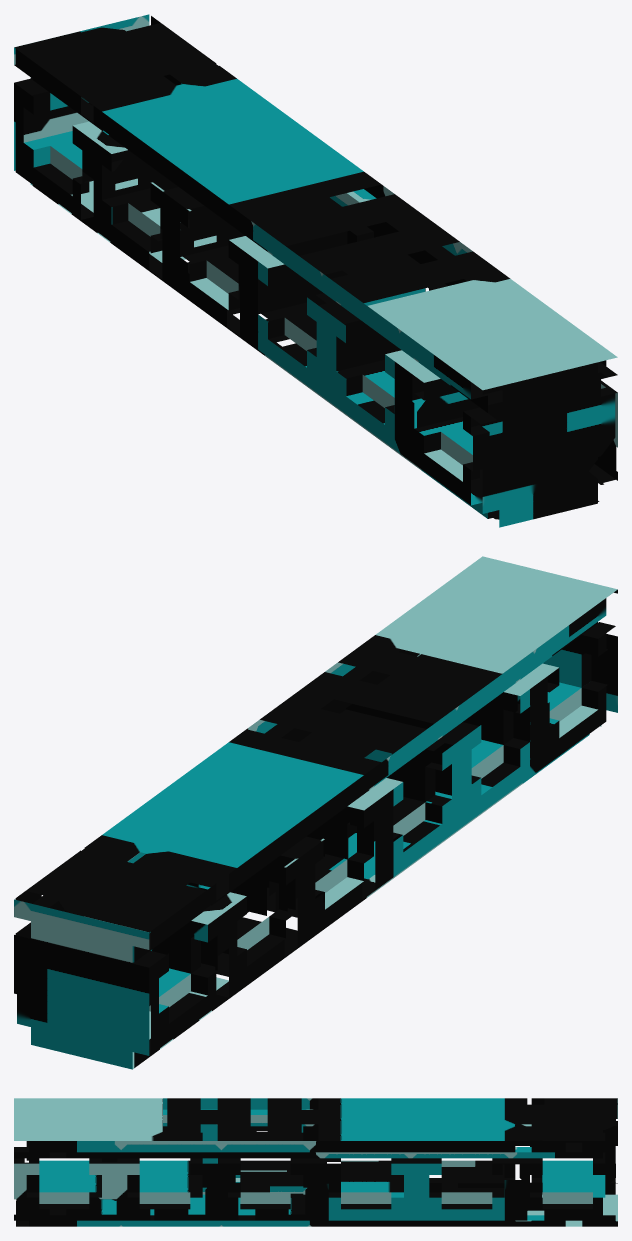
File: platform.obj
The picture shows the model from 3 angles, top to bottom: view 1: azimuth 30°, elevation 25°; view 2: azimuth 150°, elevation 25°; view 3: azimuth 270°, elevation 25°; orthographic projection. The views are drawn at different scales.
Bounding box in the file's own units: 1.67 × 1.66 × 10.
